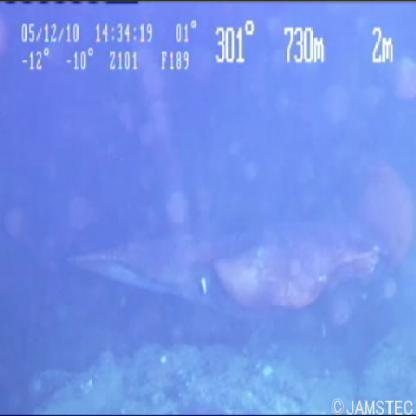Bio: (63, 154, 415, 328)
